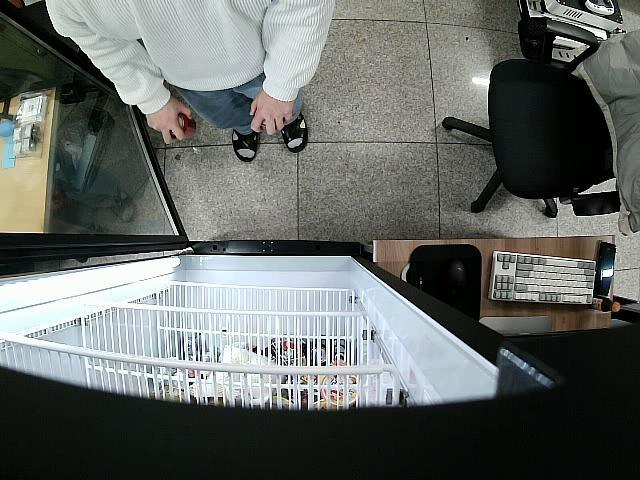11_cocaColaZero: (170, 113, 196, 139)
